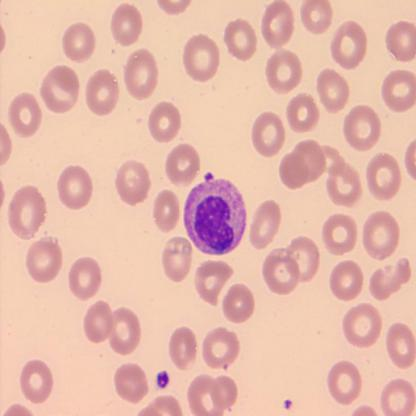Band Neutrophil: (182, 171, 248, 258)
